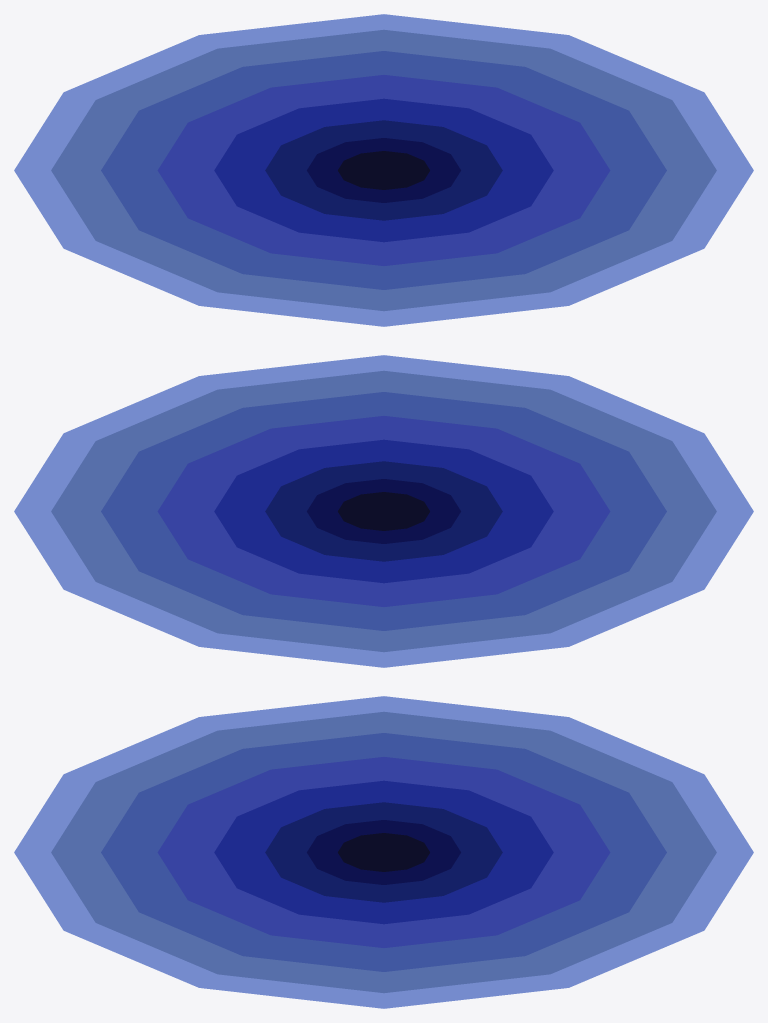
Rendered from portal.fbx.
The picture shows the model from 3 angles, top to bottom: view 1: azimuth 30°, elevation 25°; view 2: azimuth 150°, elevation 25°; view 3: azimuth 270°, elevation 25°; orthographic projection.
Parts seen in each view (by area): view 1: Portal.003; view 2: Portal.003; view 3: Portal.003.
Boxes of the visible parts, x1,y1,x2,y2 form: Portal.003: (14,14,753,326); Portal.003: (14,355,753,667); Portal.003: (14,696,753,1008).
Bounding box in the file's own units: 200 × 3.26e-05 × 200.
